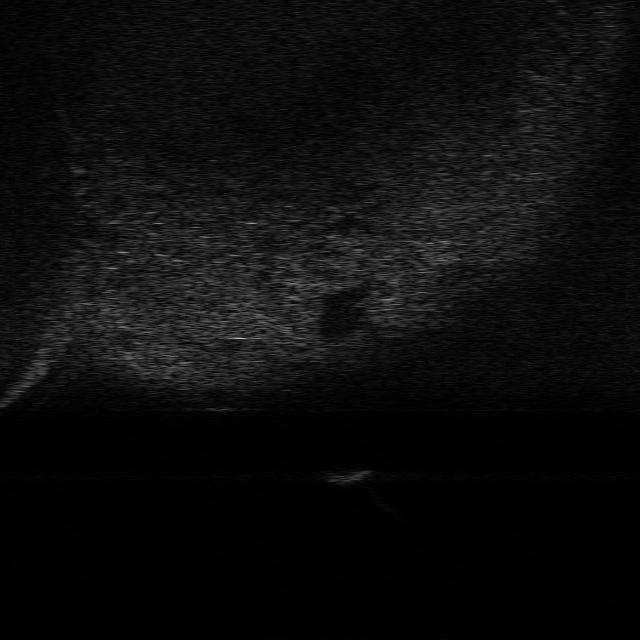cube: (320, 465, 374, 488)
